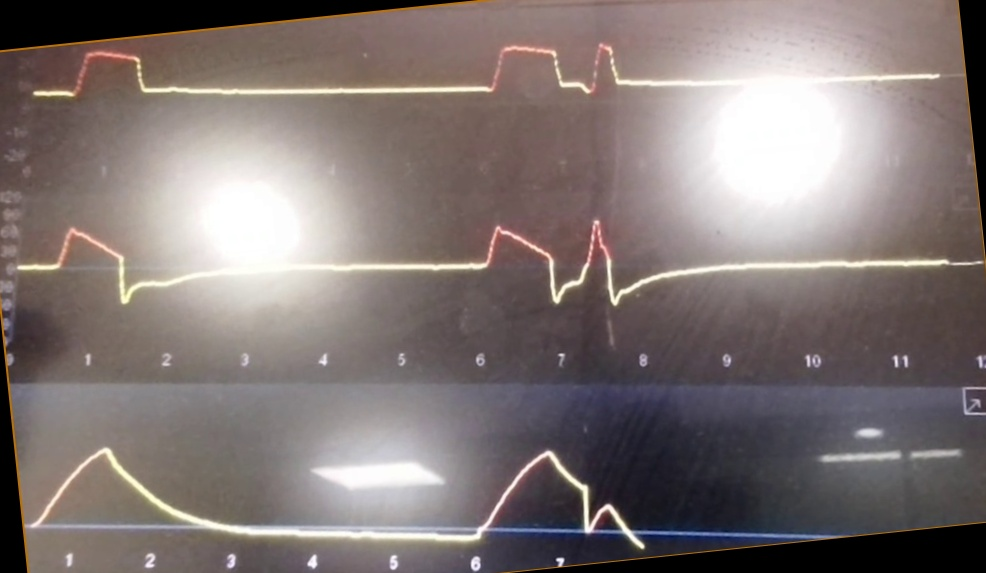Double_Triggering Flow: (22, 184, 960, 325)
Double_Triggering Volume: (30, 426, 684, 548)
